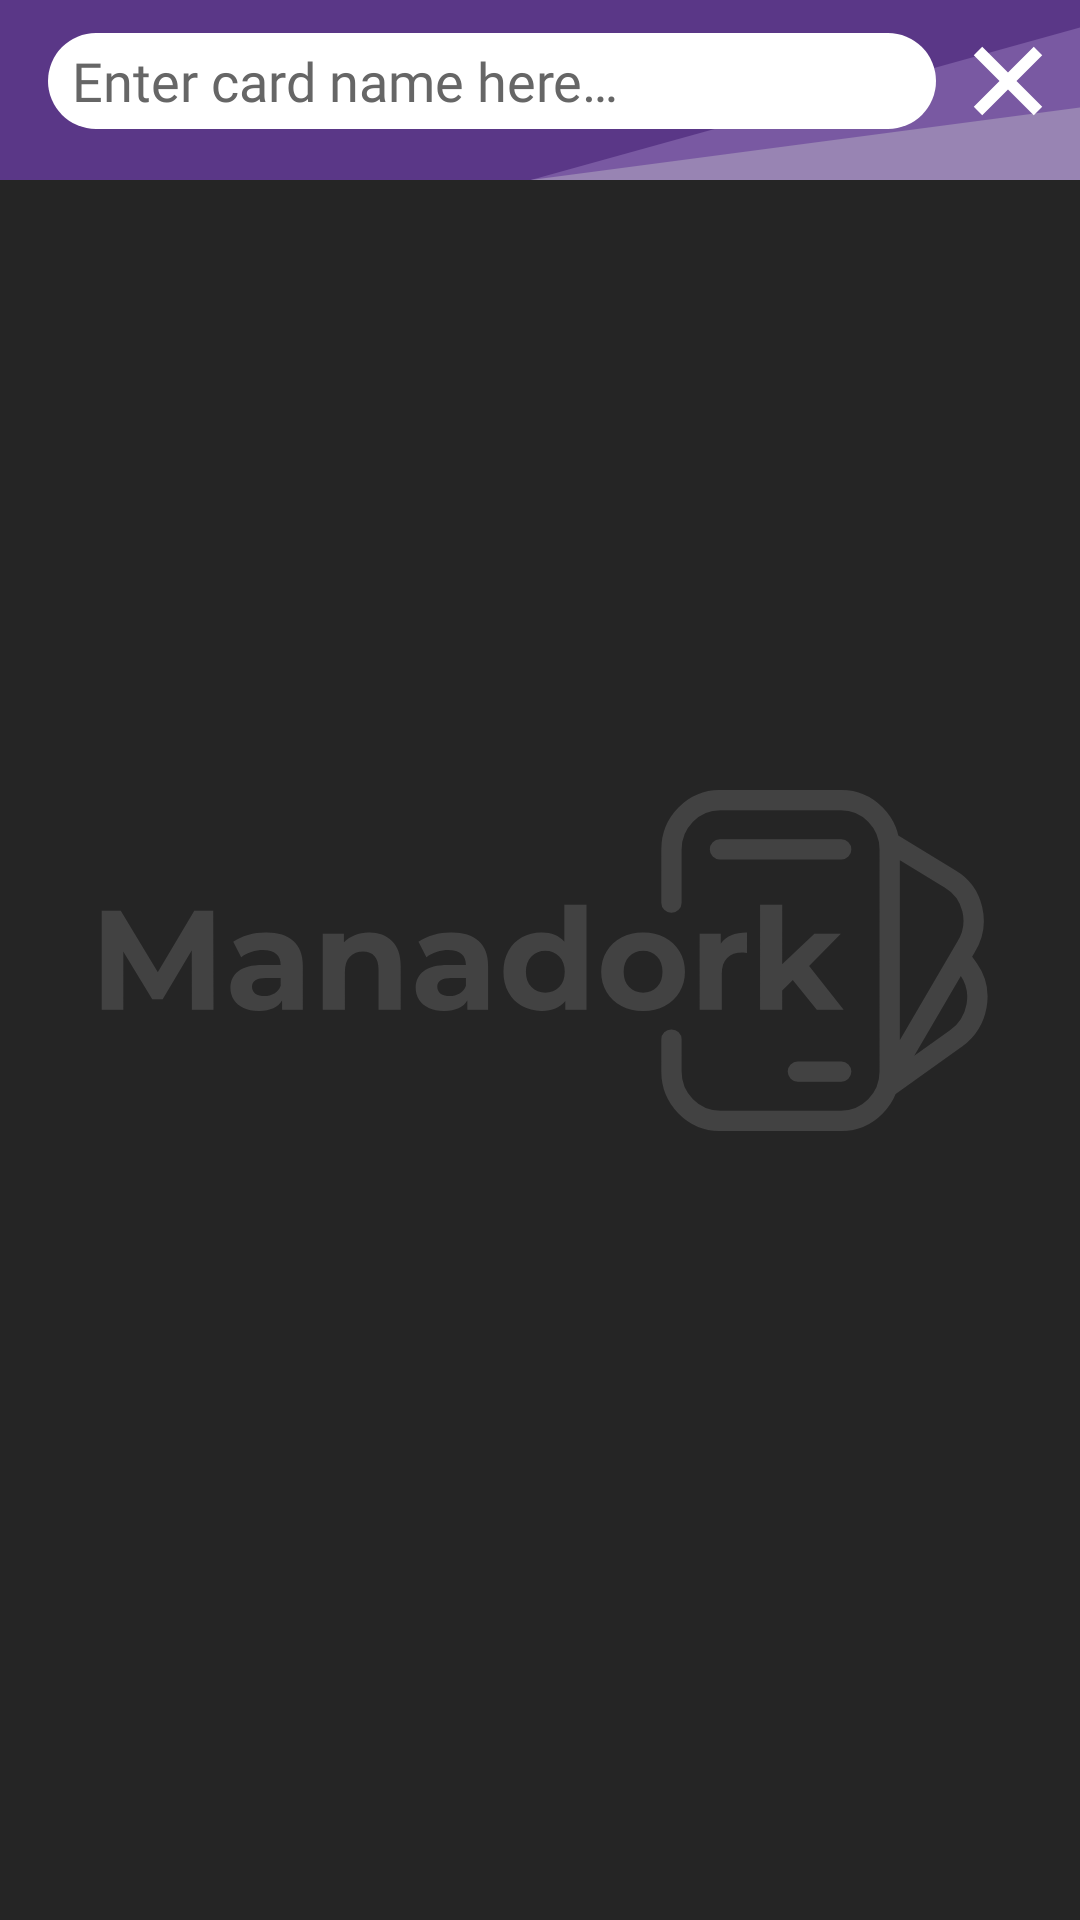

Icon click points for this 1080×1920 phone screenshot, format [x,y]:
Clear search: [1008,81]
